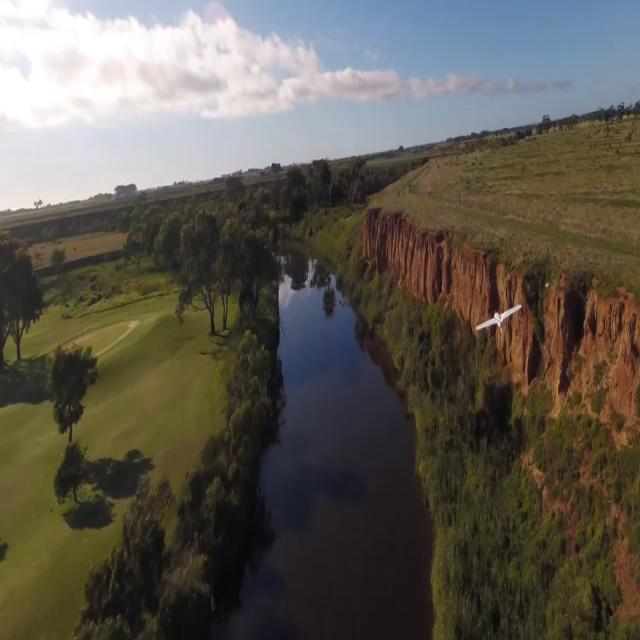iha: (476, 301, 520, 340)
